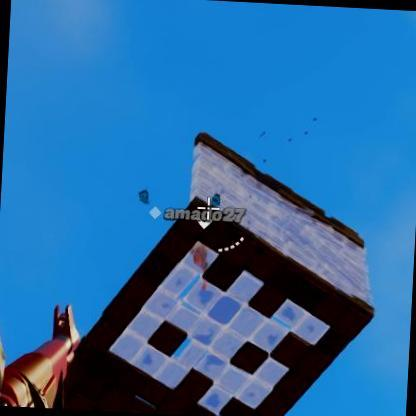person: (191, 238, 214, 281)
